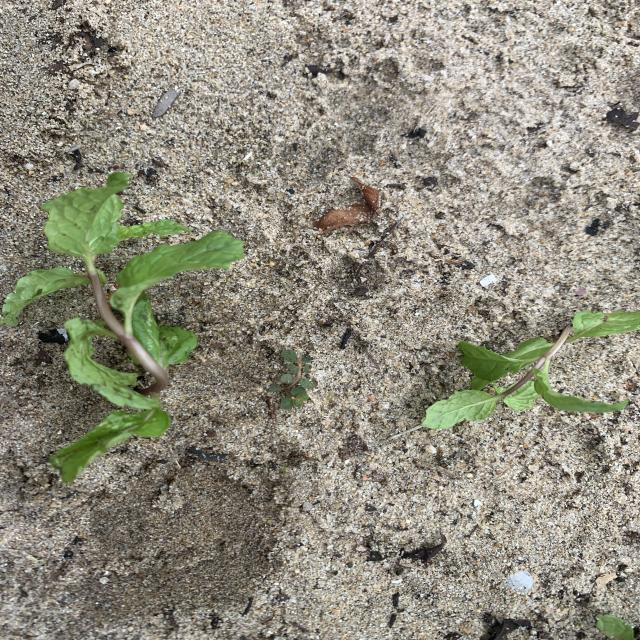crop: (1, 173, 244, 482), (435, 310, 640, 422)
weed: (266, 349, 317, 419), (595, 613, 640, 640)
